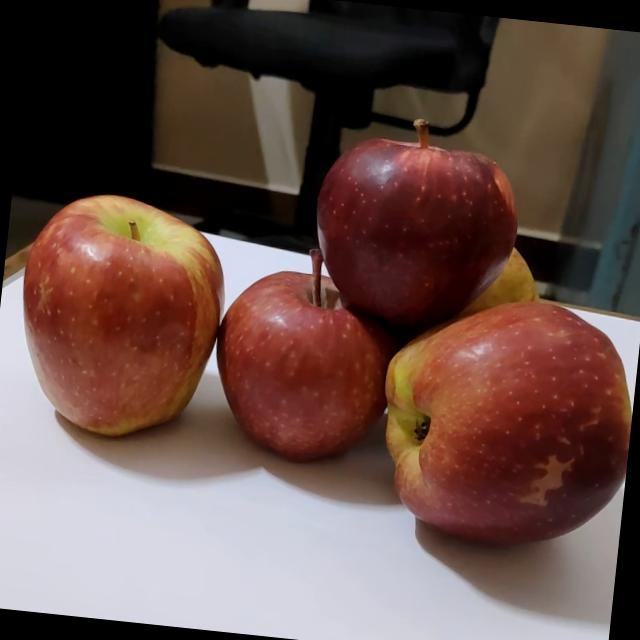apple: (356, 286, 640, 567), (2, 182, 230, 450), (296, 104, 527, 336), (195, 238, 402, 476), (431, 230, 548, 340)
